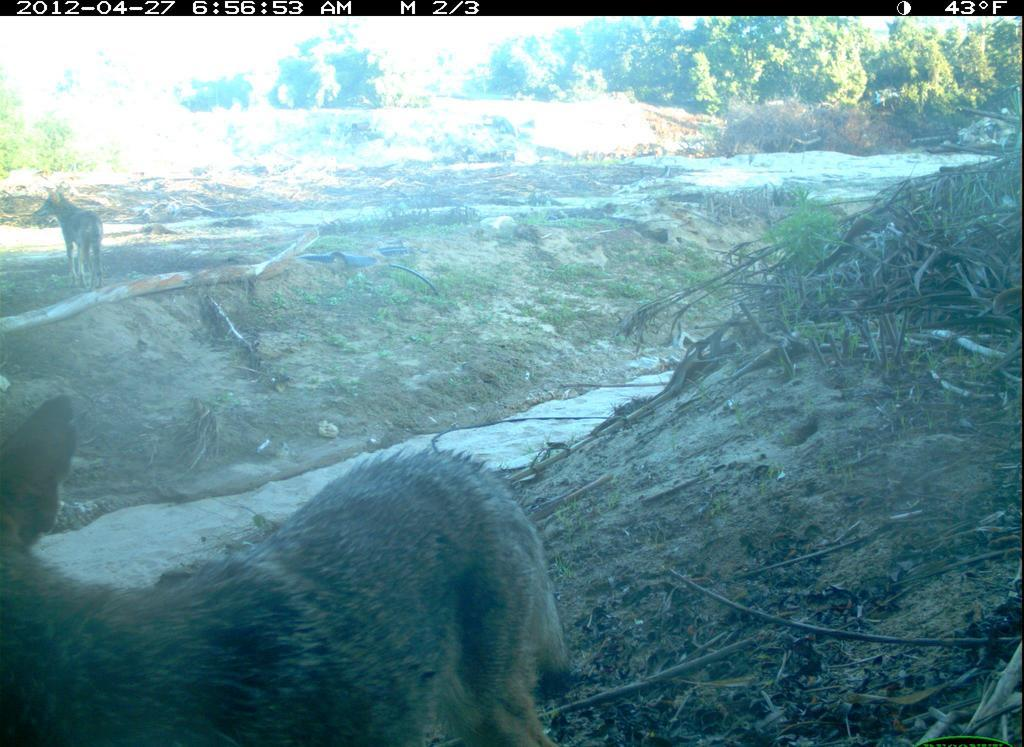coyote: (4, 395, 577, 739), (29, 182, 111, 300)
